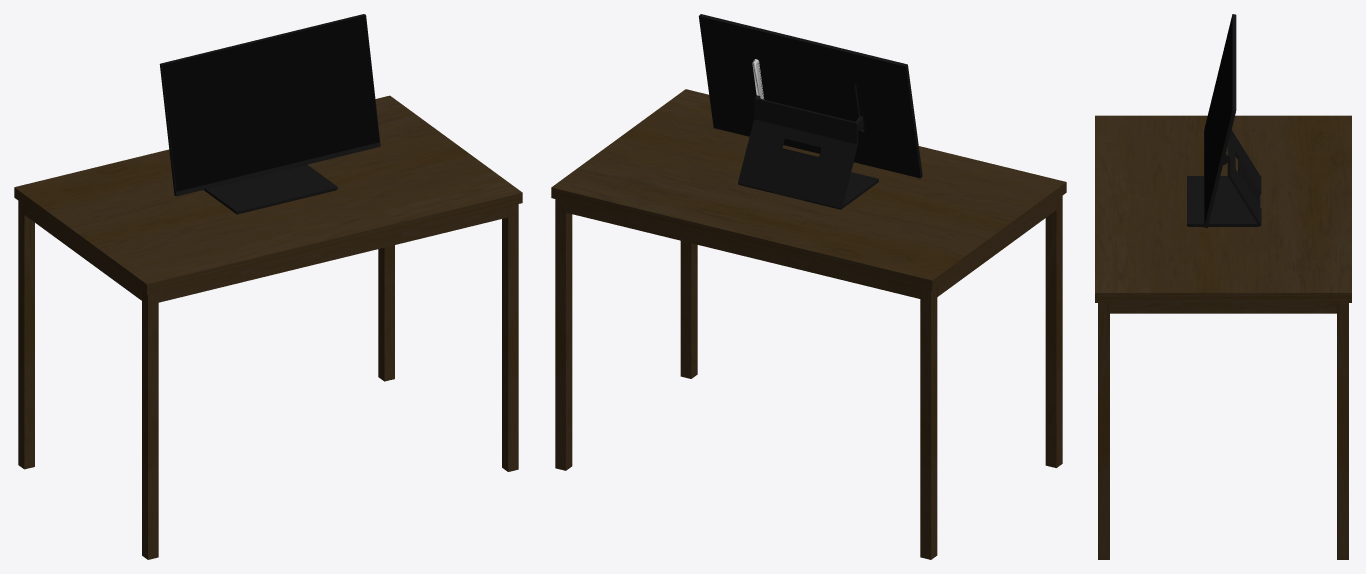
Rendered from tableRM.gltf.
3 views of the same model, side by side, from view 1: azimuth 30°, elevation 25°; view 2: azimuth 150°, elevation 25°; view 3: azimuth 270°, elevation 25° (orthographic). The views are drawn at different scales.
Visible parts, largest first — view 1: TABLE, Screen, Handles, Screen frame; view 2: TABLE, Screen frame, Handles; view 3: TABLE, Handles, Screen, Screen frame.
Part boxes in pixels (x1,y1,x2,y2): TABLE: (14,95,522,559); Screen: (162,15,379,191); Handles: (204,164,337,214); Screen frame: (159,14,380,196); TABLE: (551,89,1066,559); Screen frame: (698,14,922,178); Handles: (738,95,878,209); TABLE: (1095,115,1351,559); Handles: (1187,130,1261,226); Screen: (1205,16,1232,221); Screen frame: (1204,14,1236,227).
Size of the model in its own units: 1.1 by 1.19 by 0.6743.
3 materials, 1 textured.
